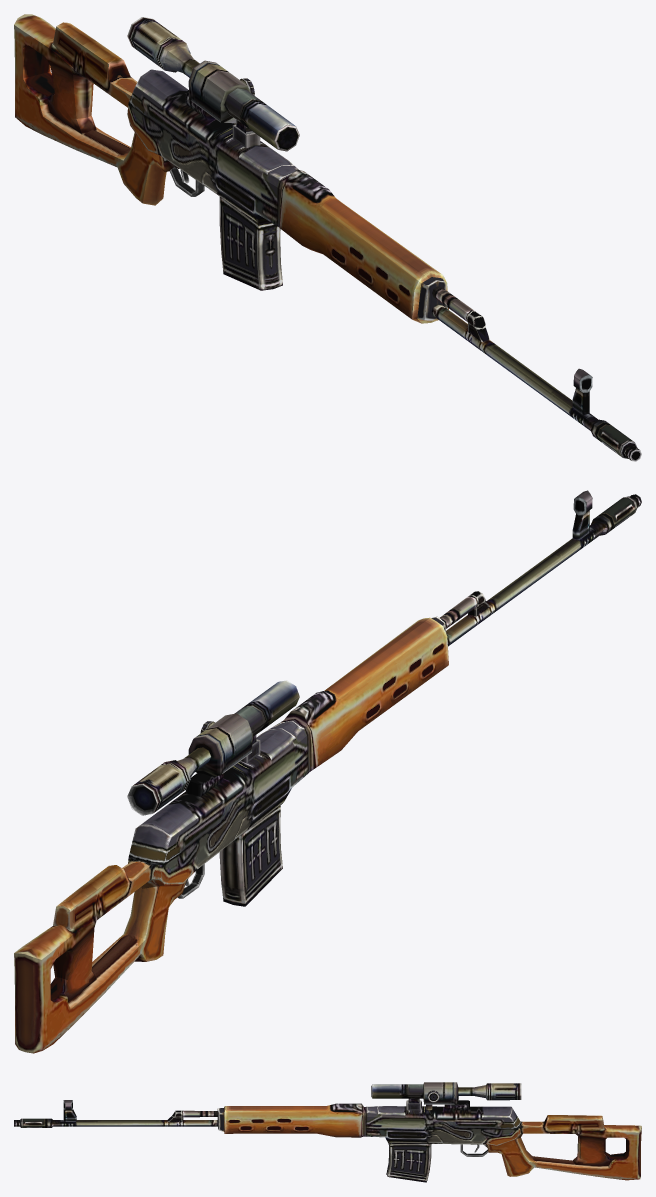
Rendered from SVD.FBX.
3 views of the same model, one above another, from view 1: azimuth 30°, elevation 25°; view 2: azimuth 150°, elevation 25°; view 3: azimuth 270°, elevation 25° (orthographic). The views are drawn at different scales.
Visible parts, largest first — view 1: svd-sniper; view 2: svd-sniper; view 3: svd-sniper.
Part boxes in pixels (<box>): svd-sniper: <box>14,14,641,461</box>; svd-sniper: <box>14,490,641,1053</box>; svd-sniper: <box>14,1082,641,1182</box>.
Bounding box in the file's own units: 15.02 × 65.82 × 386.
Materials: 1 (1 with a texture image).
